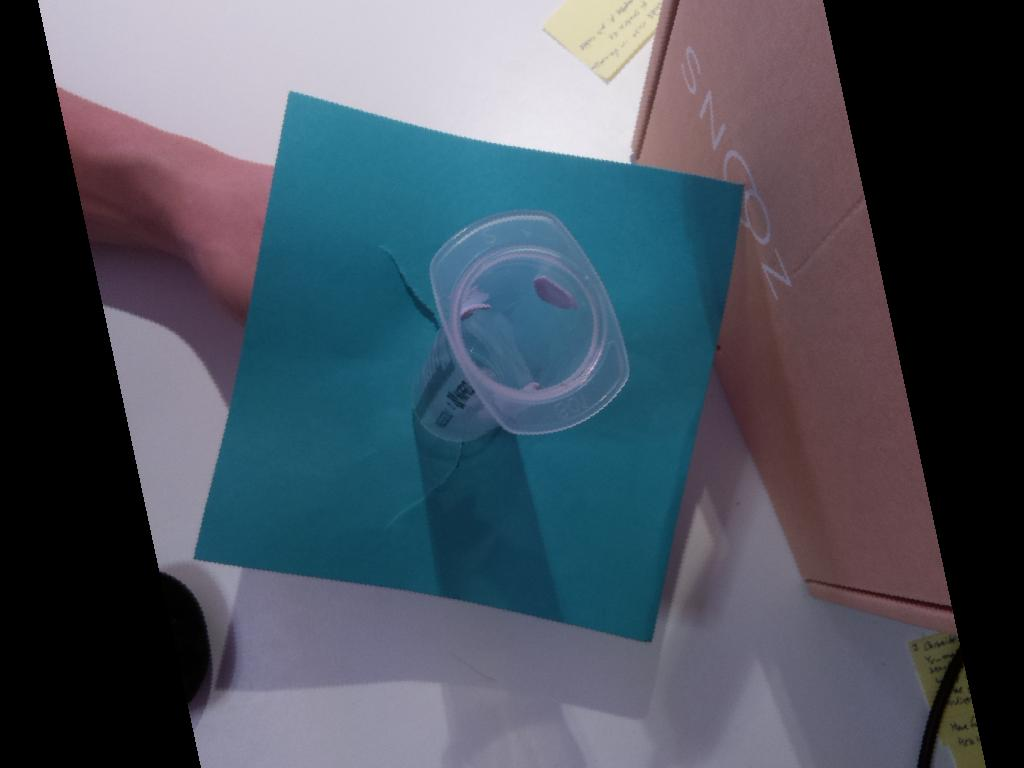dirty: (429, 209, 629, 438)
